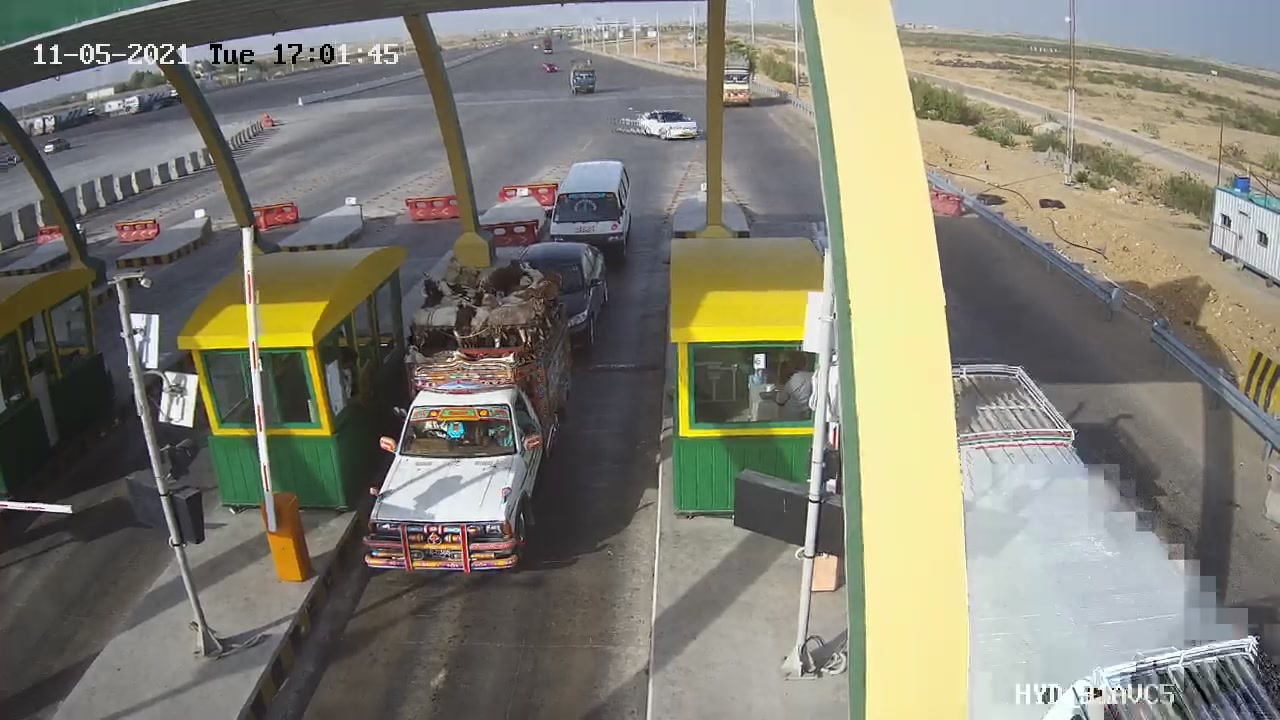F1: (353, 259, 594, 598)
F2: (534, 144, 643, 282)
